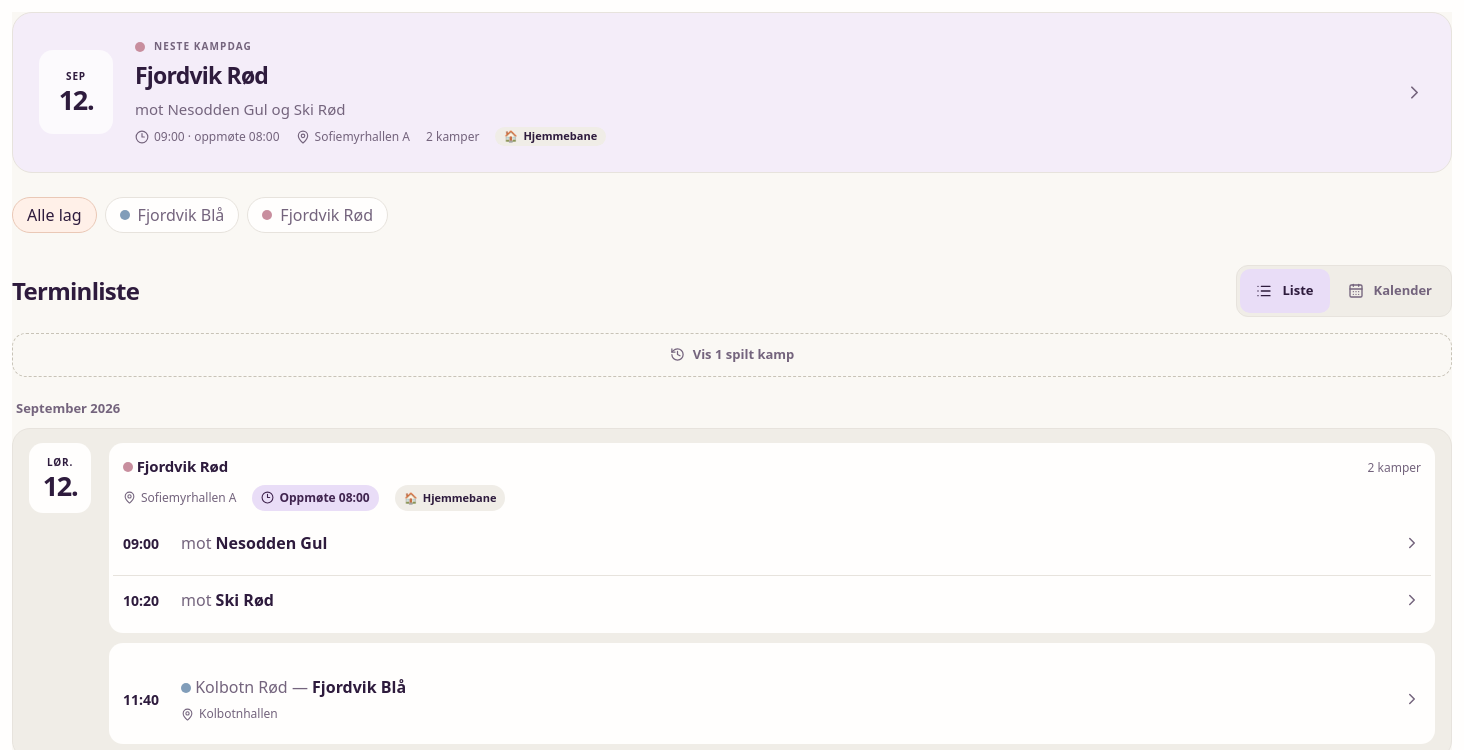
Test: MatchCalendar › folds the played matches away until the coach asks for them
This screenshot has width=1464, height=750.
Check: the text "Bækkelaget Blå" is not shown
Click the button "Vis 1 spilt kamp" at x=732, y=355, box [12,333,1452,377]
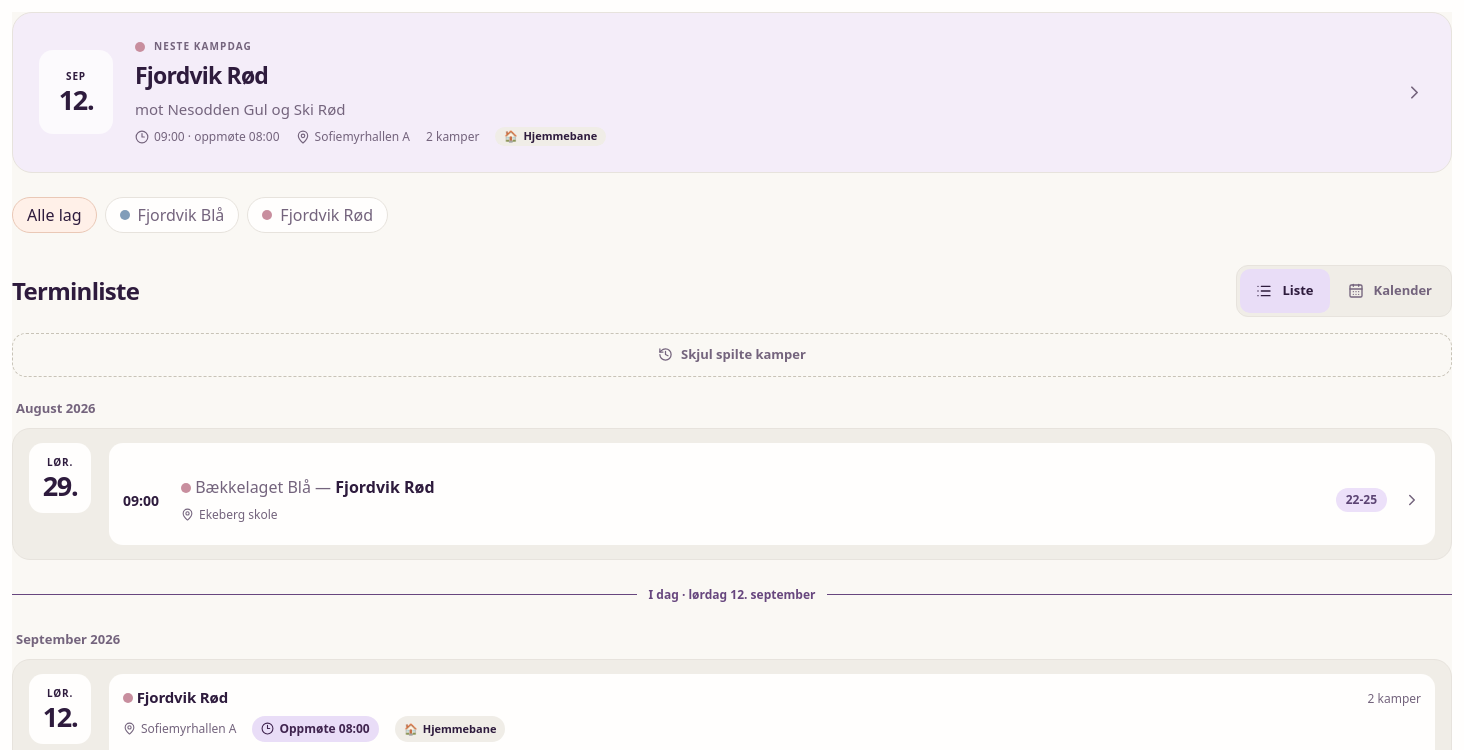
Check: the button named "Vis 1 spilt kamp" is expanded
Check: the text "Bækkelaget Blå" is shown, box [195,476,311,498]
Check: the text "22-25" is shown, box [1336,488,1387,512]
Click the button "Skjul spilte kamper" at x=732, y=355, box [12,333,1452,377]
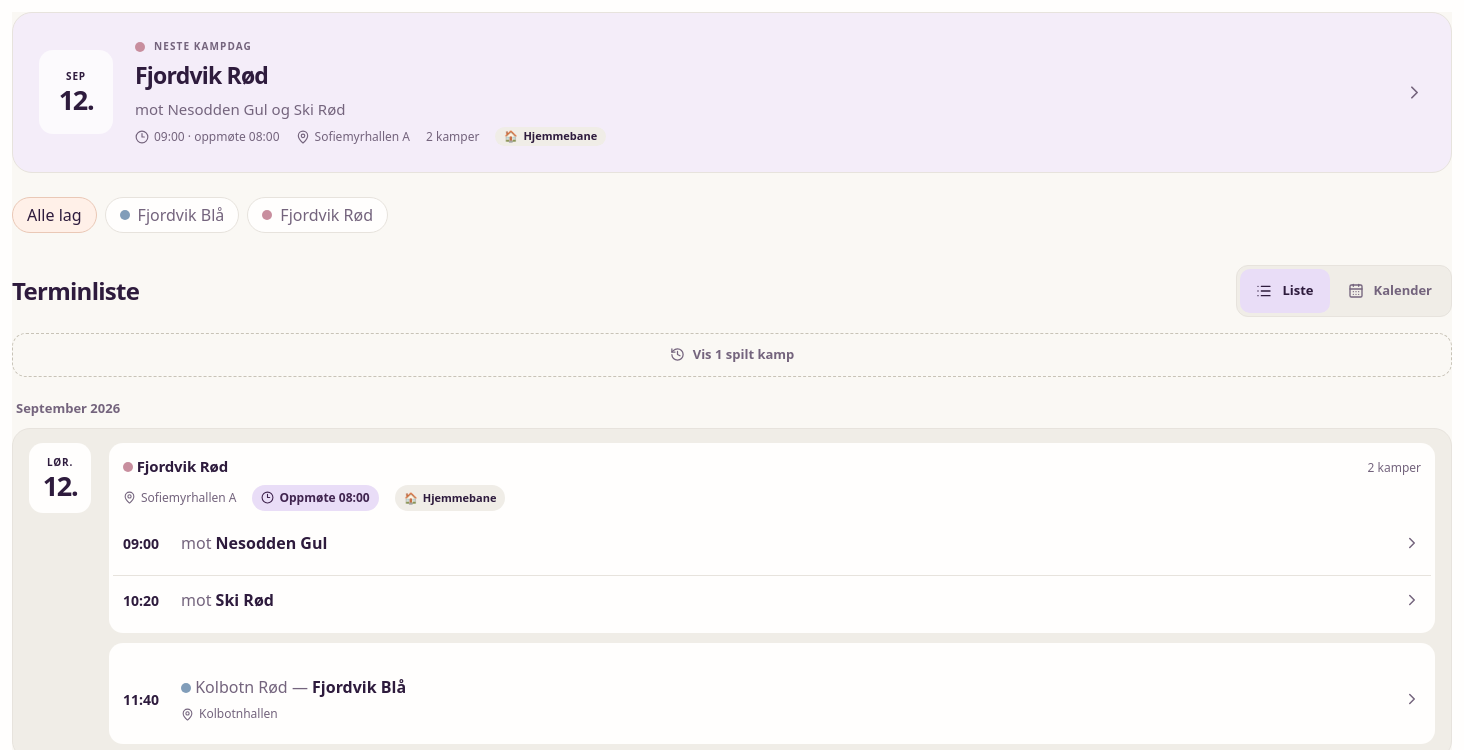
Check: the button "Bækkelaget Blå" is gone
